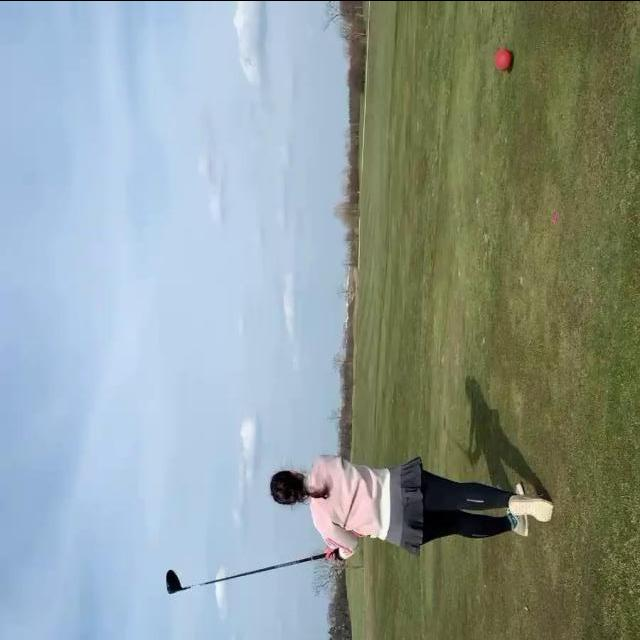golf club-handle: (166, 553, 326, 594)
golf club-head: (166, 567, 182, 593)
